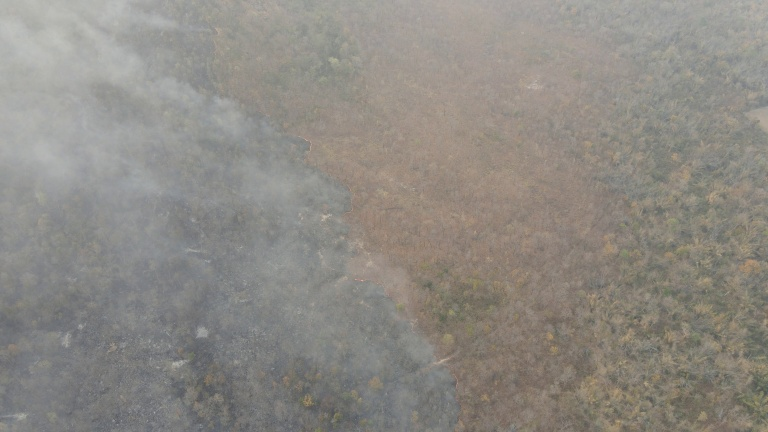smoke: (1, 1, 459, 430)
